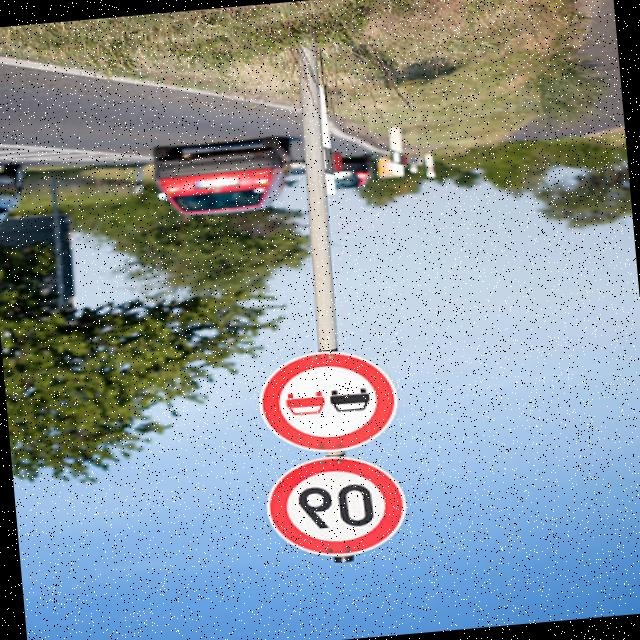no_passing: (232, 346, 418, 457)
